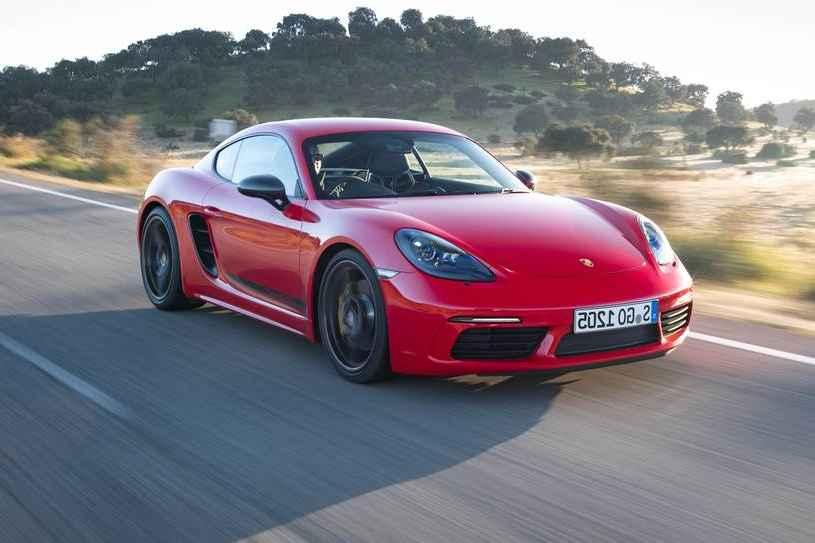porsche: (570, 255, 603, 269)
